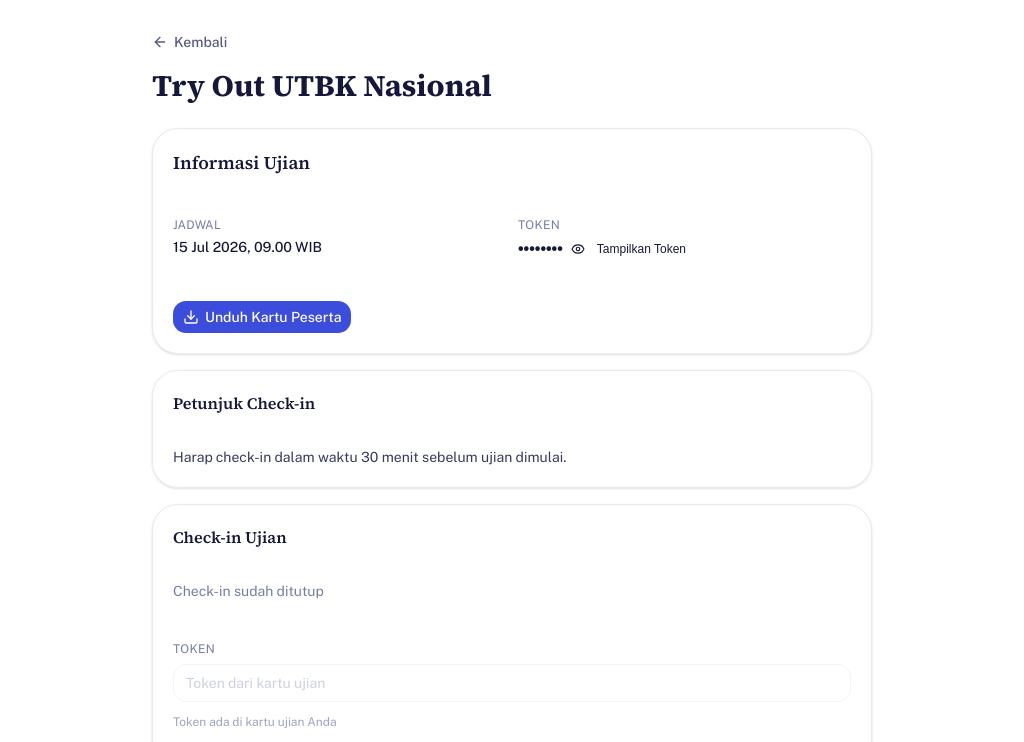
Test: ExamDetailPage › token toggle reveals and then re-hides the token (FR12)
Expected: the text "••••••••" is shown, x1=518 y1=237 x2=563 y2=261
Click the button "Tampilkan Token". click: point(628, 249)
box: x1=571 y1=241 x2=686 y2=257
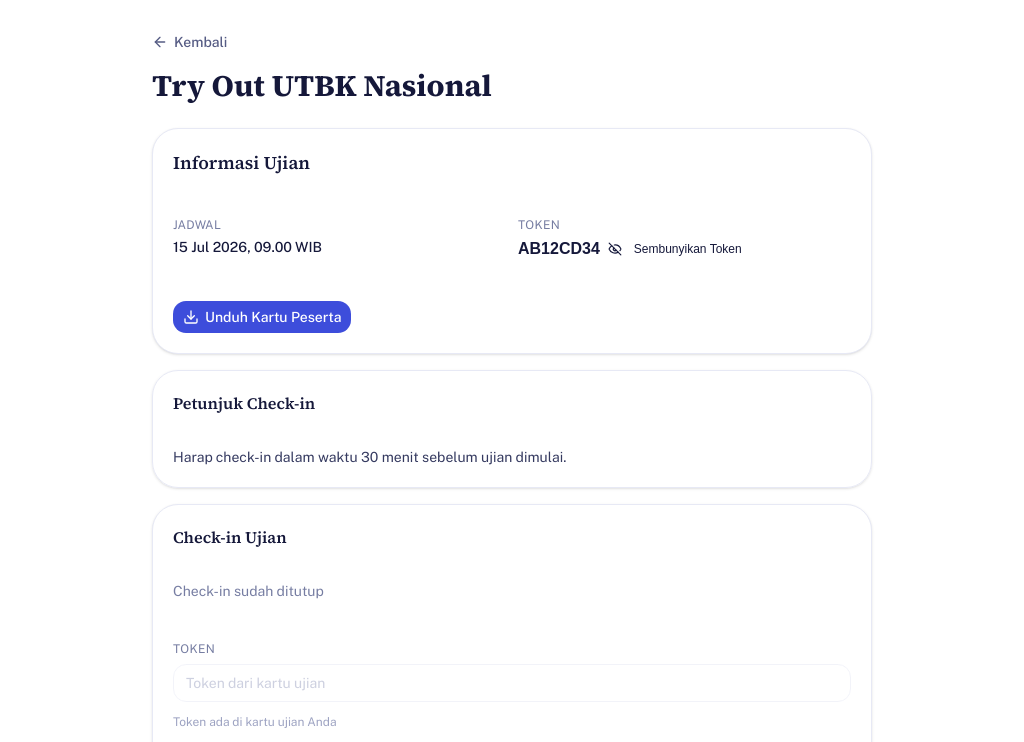
Expected: the text "AB12CD34" is shown, x1=518 y1=237 x2=600 y2=261
Expected: the text "••••••••" is gone
Click the button "Sembunyikan Token". click: point(675, 249)
box: x1=608 y1=241 x2=742 y2=257
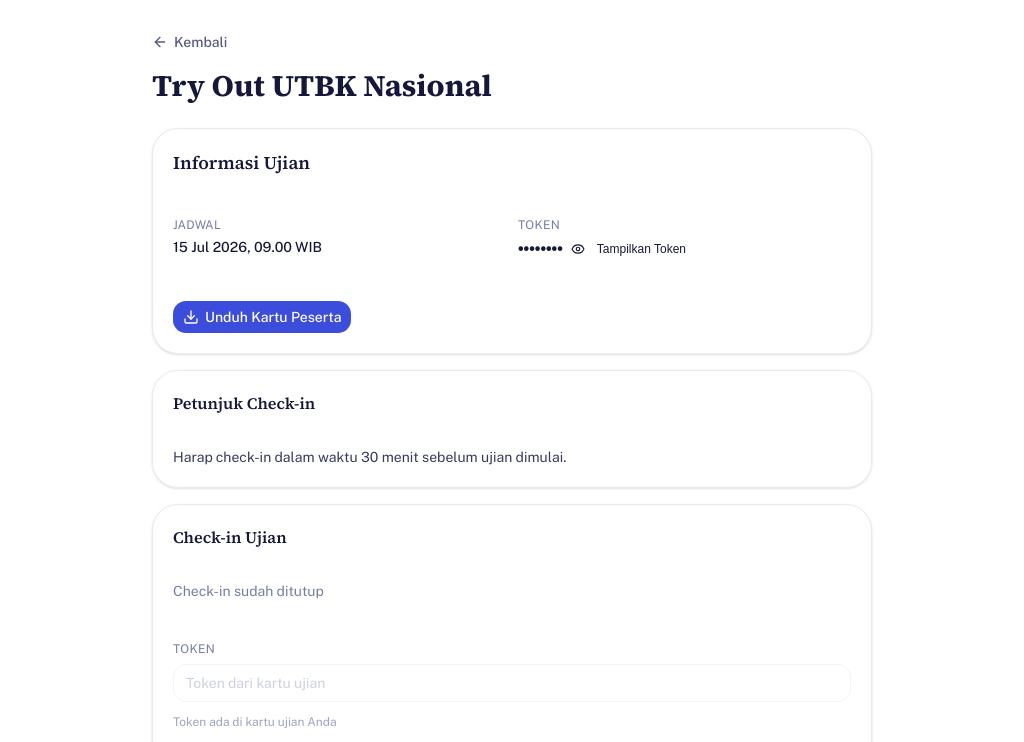
Expected: the text "AB12CD34" is gone
Expected: the text "••••••••" is shown, x1=518 y1=237 x2=563 y2=261
